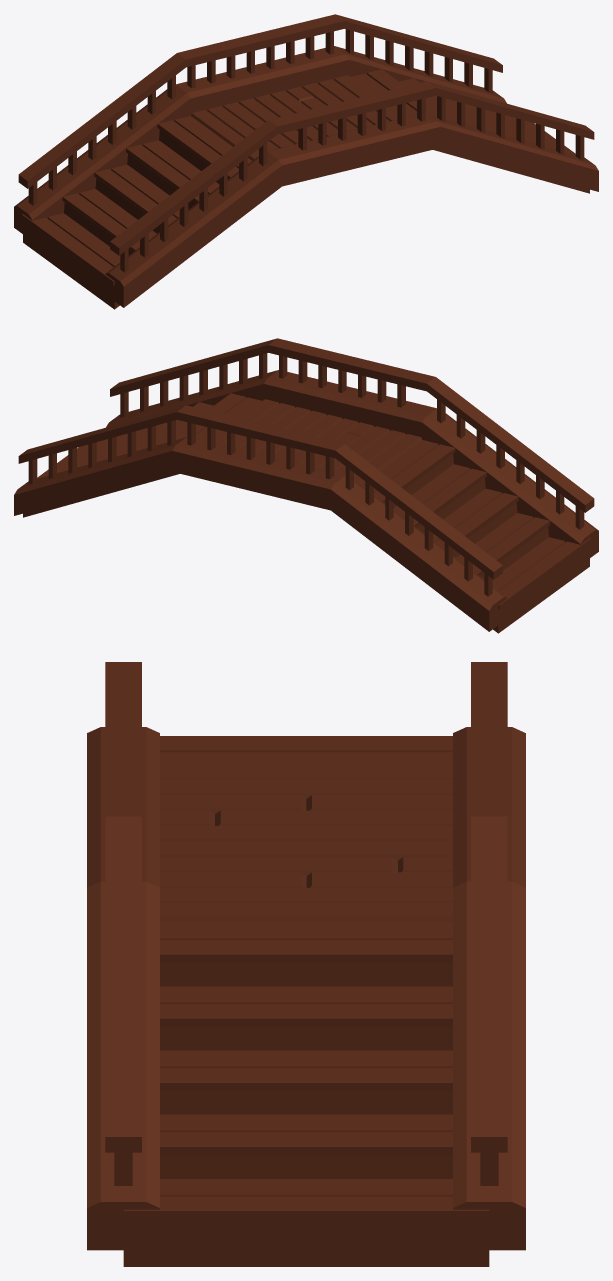
File: Bridge_Wood.fbx
3 views of the same model, one above another, from view 1: azimuth 30°, elevation 25°; view 2: azimuth 150°, elevation 25°; view 3: azimuth 270°, elevation 25° (orthographic). The views are drawn at different scales.
Visible parts, largest first — view 1: Wood_Bridge; view 2: Wood_Bridge; view 3: Wood_Bridge.
Boxes of the visible parts, x1,y1,x2,y2 form: Wood_Bridge: (14, 14, 598, 309); Wood_Bridge: (14, 338, 598, 633); Wood_Bridge: (87, 662, 525, 1266).
Bounding box in the file's own units: 6.03 × 1.78 × 2.4.
